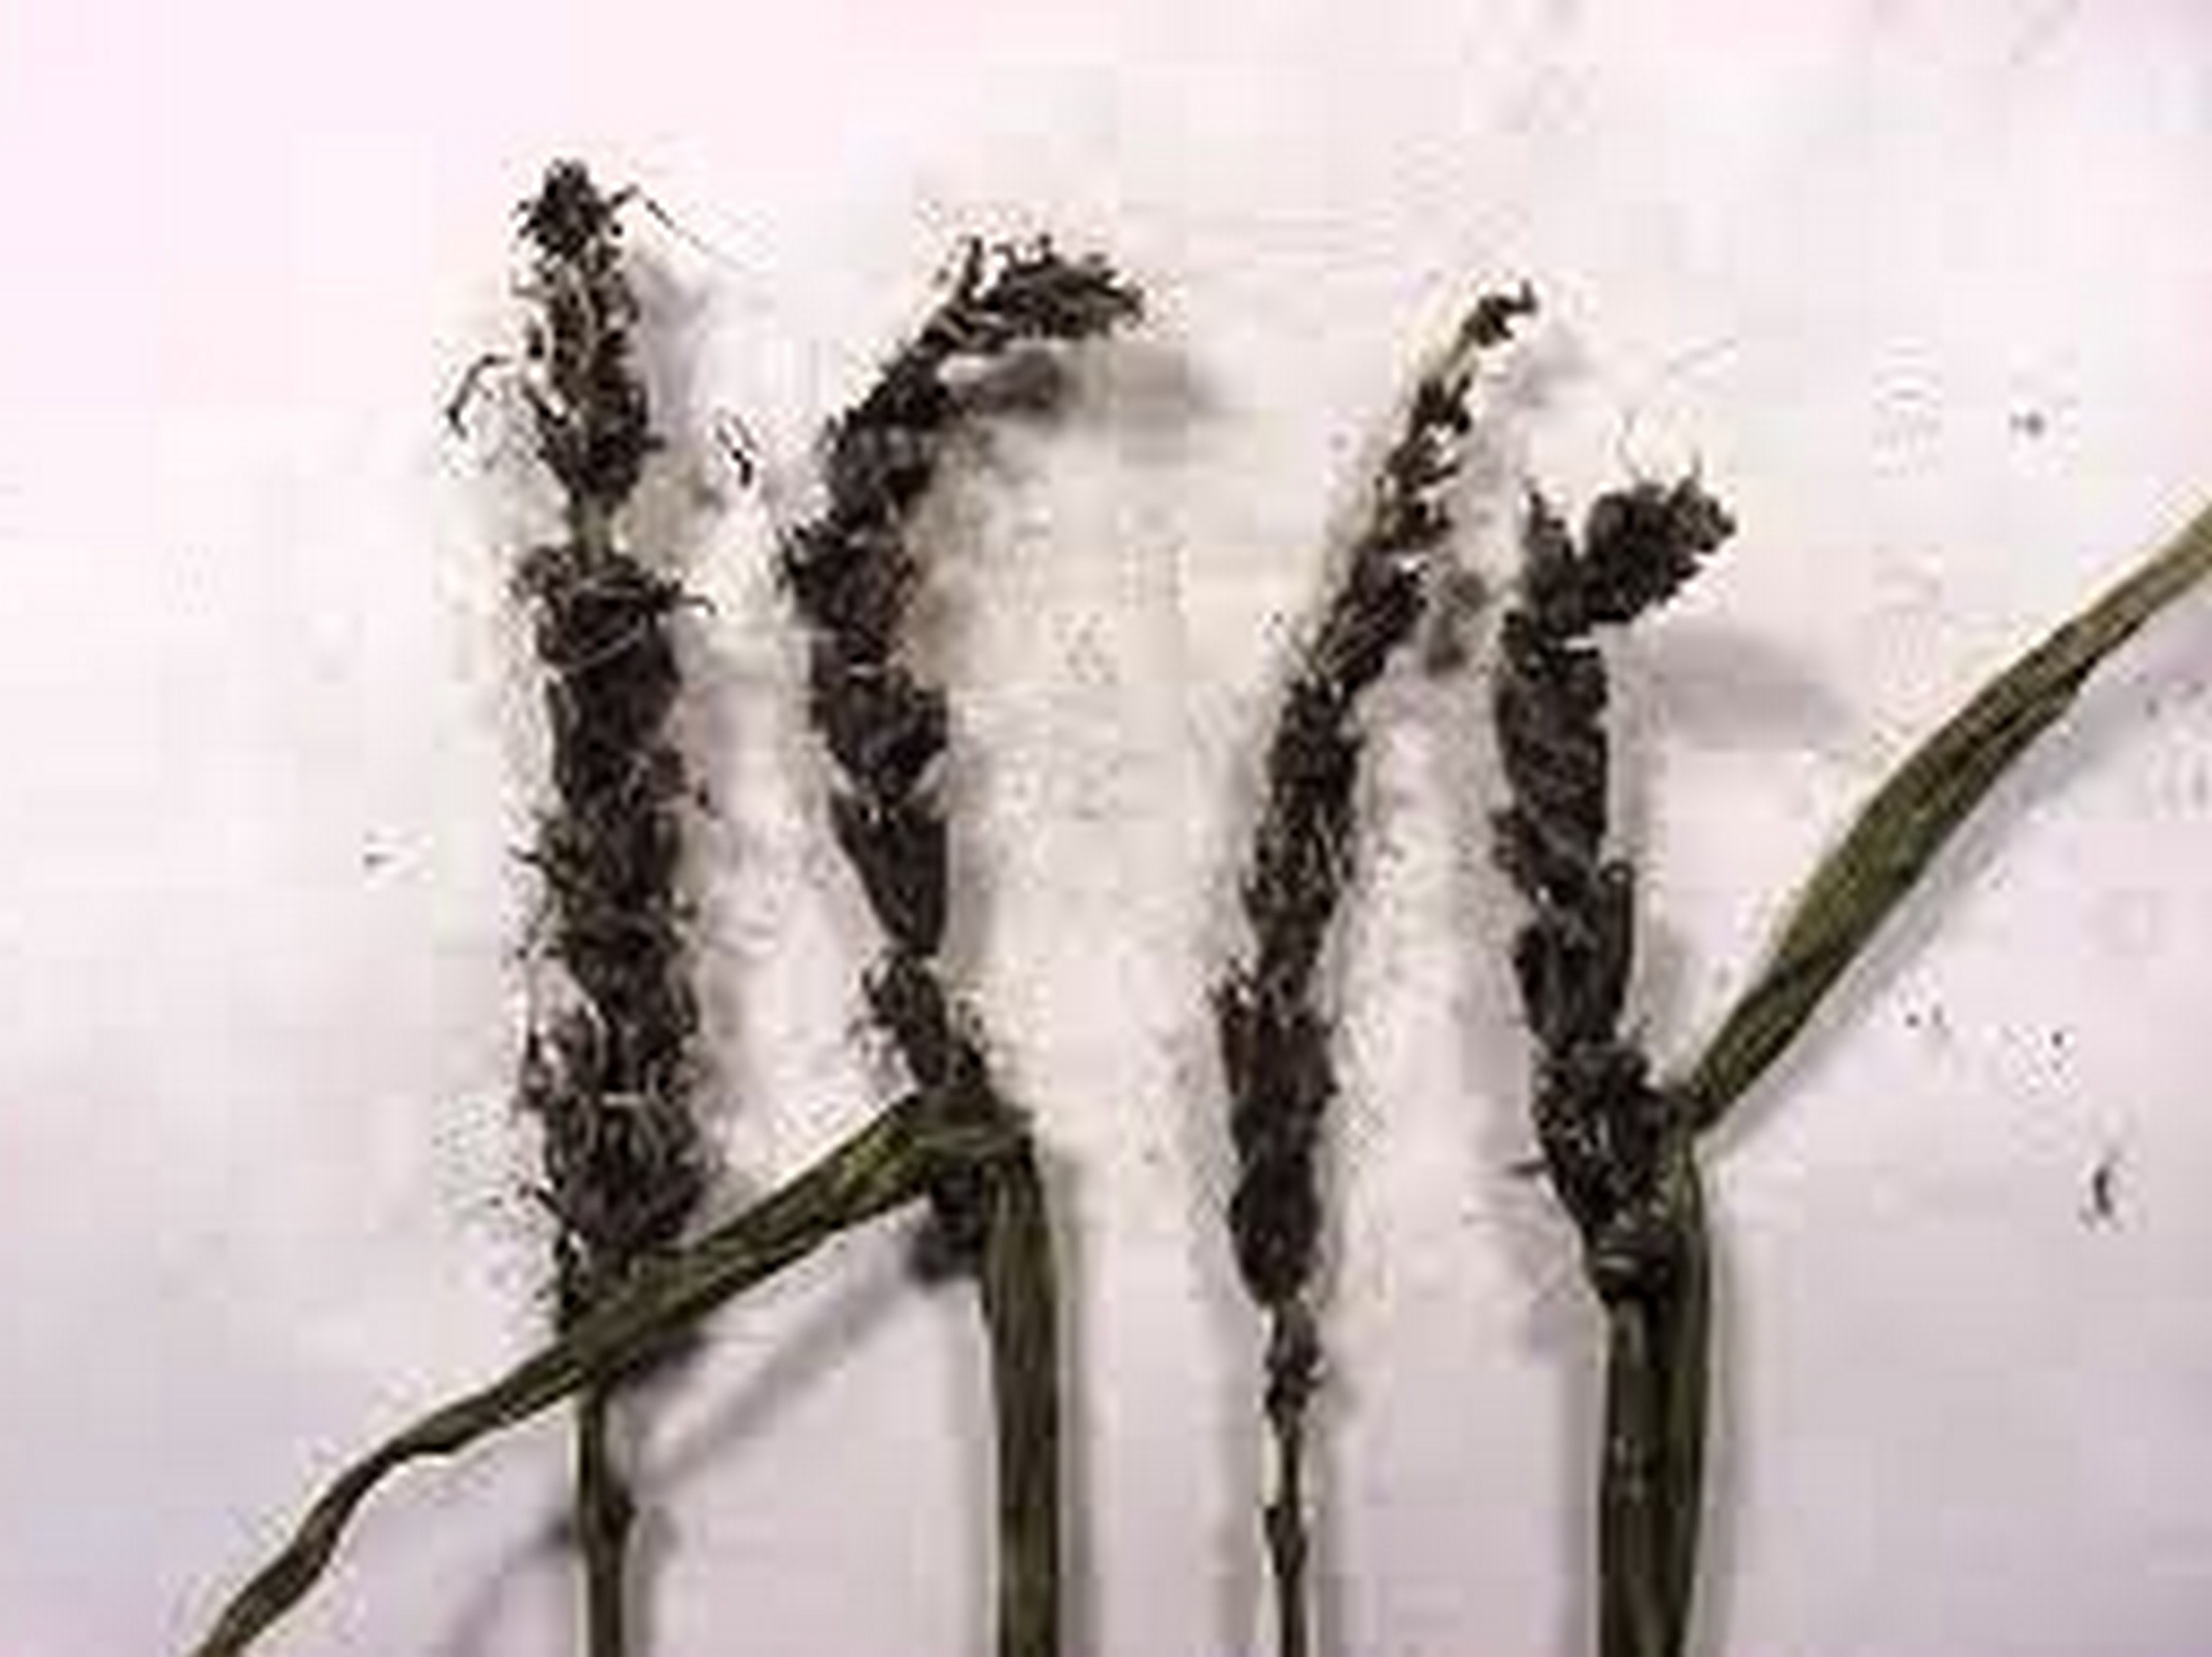Wheat Loose Smut: (439, 127, 1084, 1295), (1192, 325, 1713, 1283)
